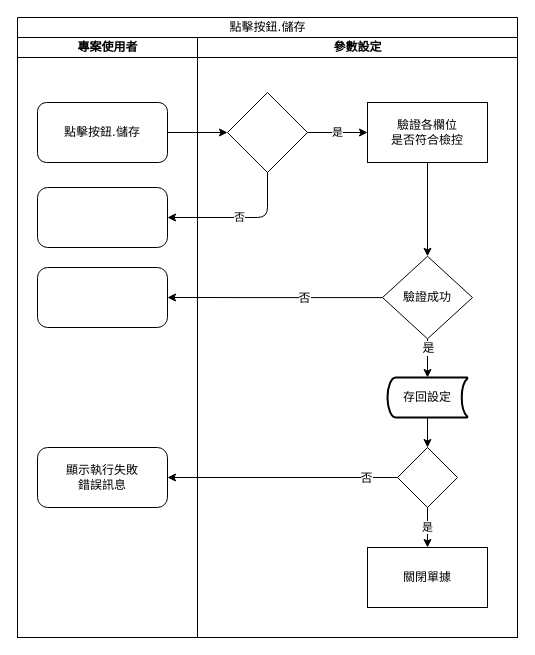
This 535x655 diagram has some shape labels left out. Here are the shapes that lost their labels. From the top down, the centre of each, then its label:
(267,132): 是否為本次操作鎖定
(102,217): 顯示鎖定訊息
(102,297): 顯示各欄位驗證 錯誤訊息
(427,477): 執行成功
